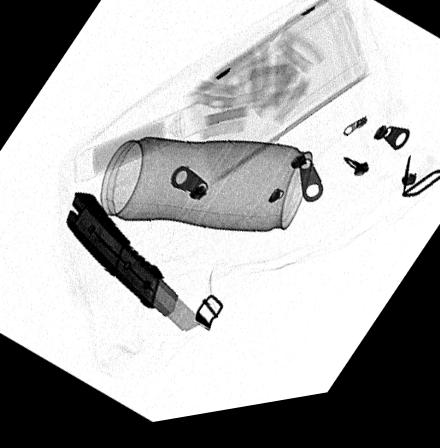Knife: (63, 195, 205, 340)
